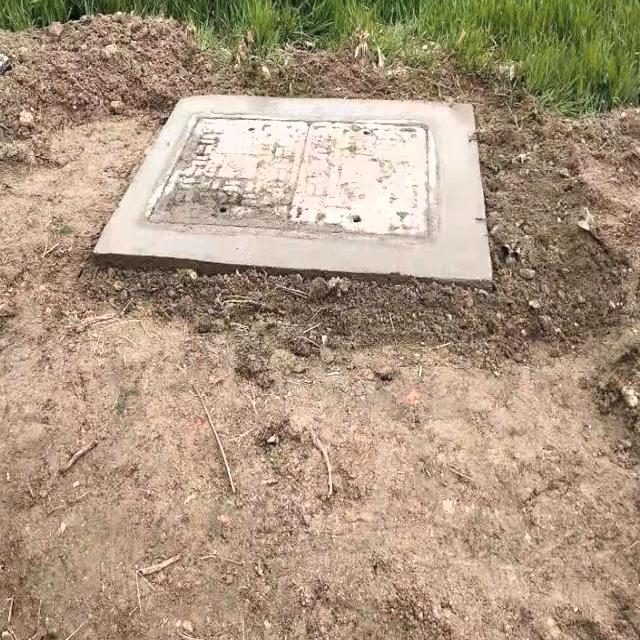good: (101, 52, 494, 280)
